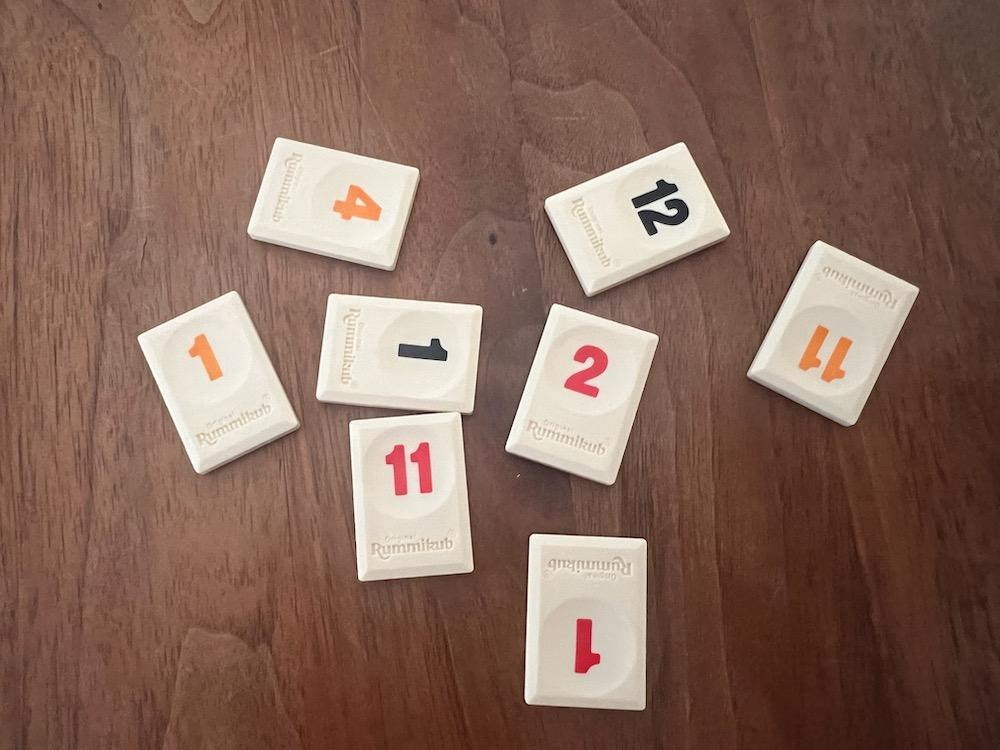black_1: (316, 295, 482, 414)
black_12: (545, 143, 729, 295)
orange_1: (139, 291, 299, 473)
orange_11: (748, 242, 918, 426)
orange_4: (248, 137, 420, 269)
red_1: (525, 535, 646, 711)
red_11: (350, 412, 473, 579)
red_2: (506, 305, 658, 484)
